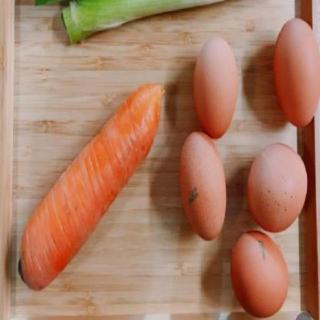carrot: (19, 80, 162, 298)
